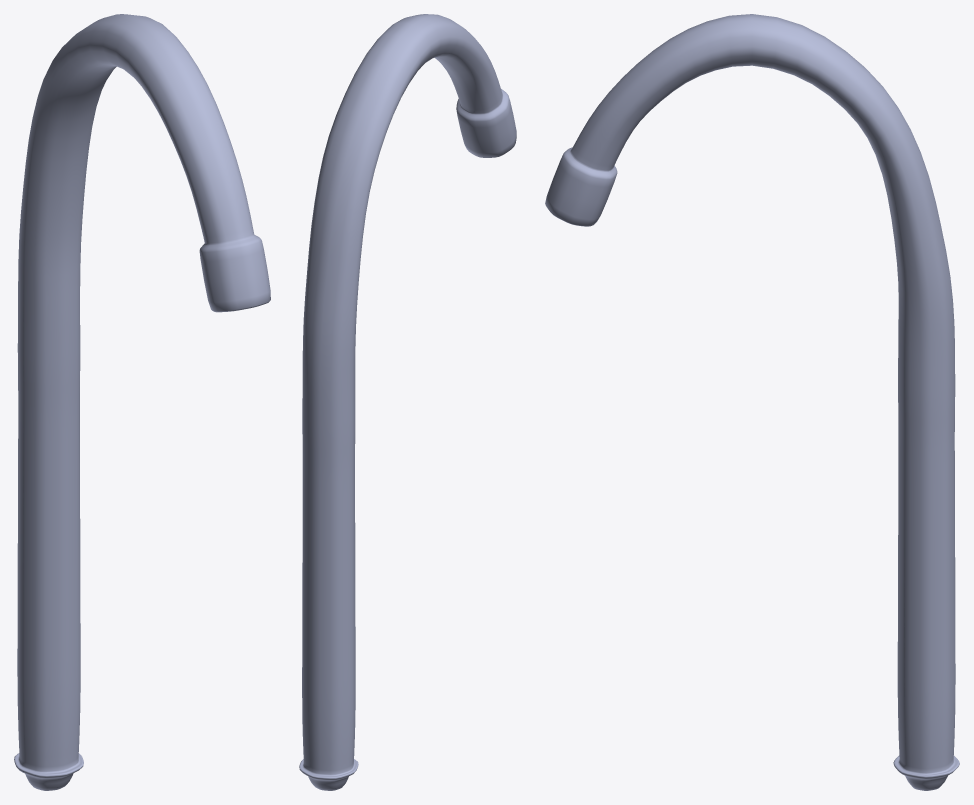
The model's file is Faucet2.fbx.
3 renders of one model, left to right at view 1: azimuth 30°, elevation 25°; view 2: azimuth 150°, elevation 25°; view 3: azimuth 270°, elevation 25°, orthographic. The views are drawn at different scales.
Parts seen in each view (by area): view 1: Grifo.008; view 2: Grifo.008; view 3: Grifo.008.
Boxes of the visible parts, left/top/right/bottom form: Grifo.008: left=14, top=14, right=270, bottom=790; Grifo.008: left=299, top=14, right=516, bottom=790; Grifo.008: left=545, top=14, right=959, bottom=790.
Bounding box in the file's own units: 2.08 × 27.2 × 13.31.
